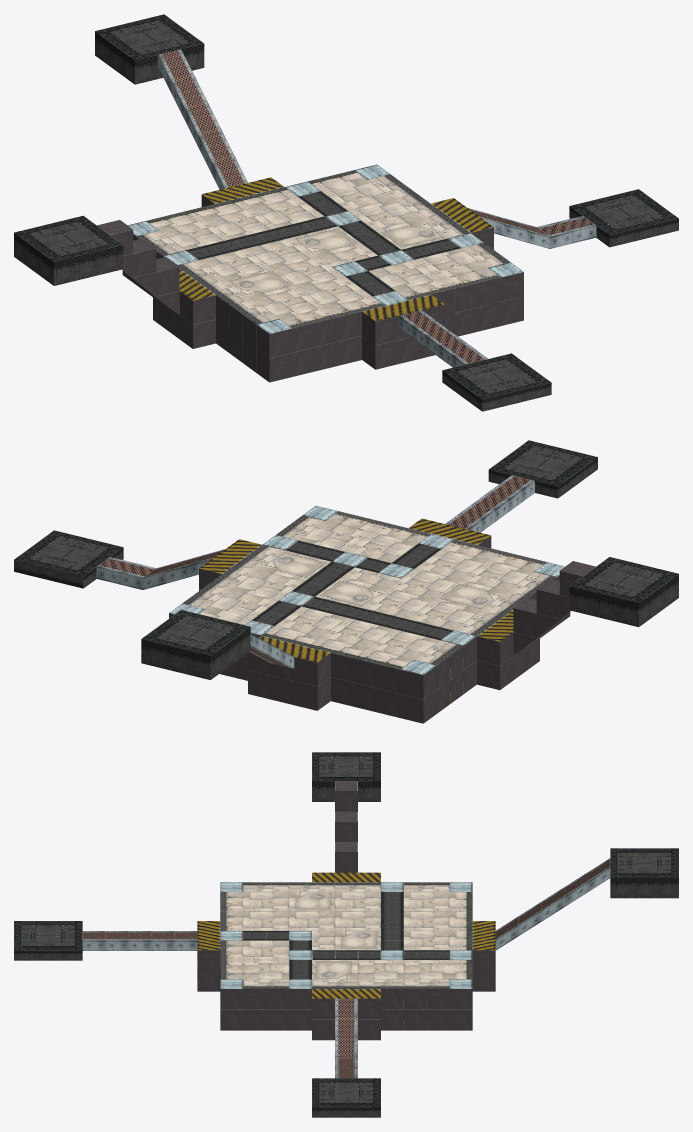
File: test-zone2.glb
The picture shows the model from 3 angles, top to bottom: view 1: azimuth 30°, elevation 25°; view 2: azimuth 150°, elevation 25°; view 3: azimuth 270°, elevation 25°; orthographic projection. The views are drawn at different scales.
Visible parts, largest first — view 1: Frame_0.014; view 2: Frame_0.014; view 3: Frame_0.014.
Boxes of the visible parts, <box> form: Frame_0.014: <box>14,14,678,411</box>; Frame_0.014: <box>14,440,678,723</box>; Frame_0.014: <box>14,752,678,1117</box>.
Bounding box in the file's own units: 135 × 27.5 × 145.
1 material, 1 textured.
